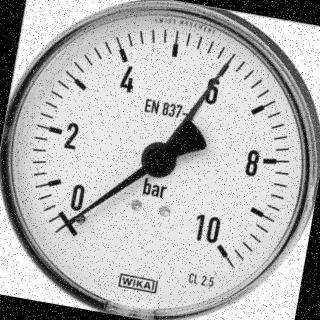gauge: (0, 0, 320, 320), (140, 141, 178, 179), (51, 206, 83, 244), (204, 230, 236, 268), (50, 222, 68, 238), (216, 58, 233, 74)
